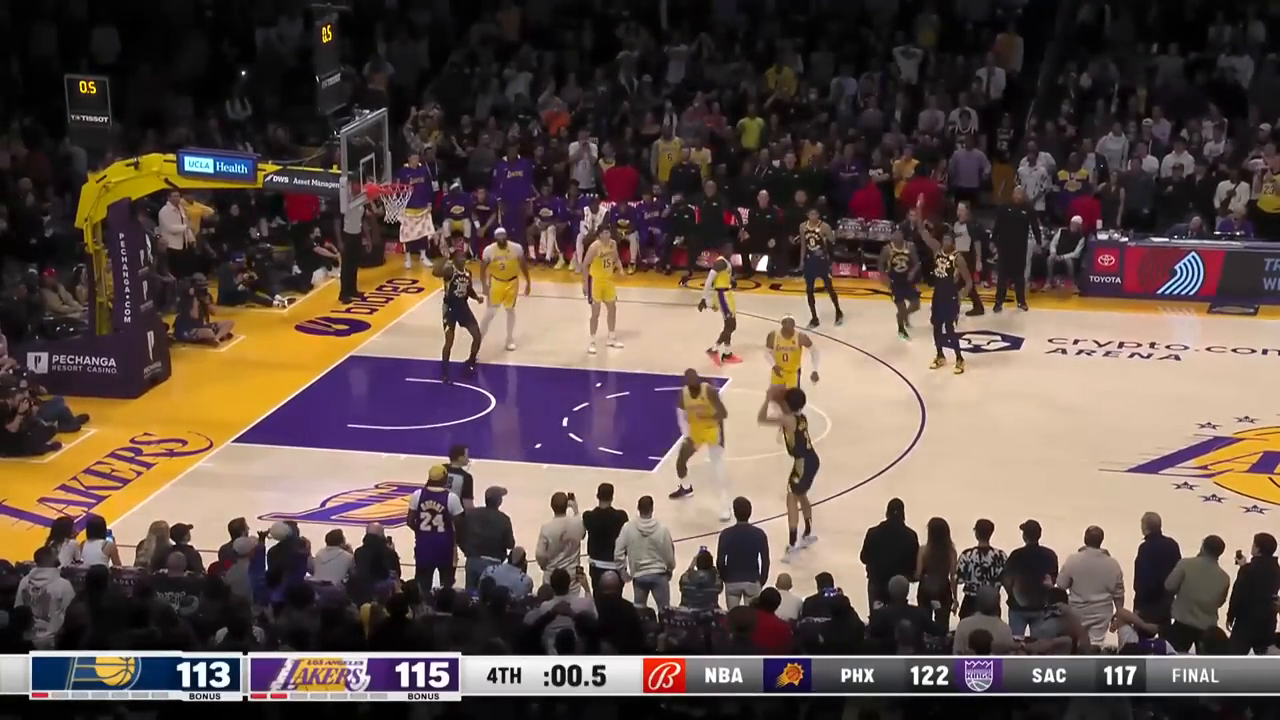net: (379, 181, 413, 225)
